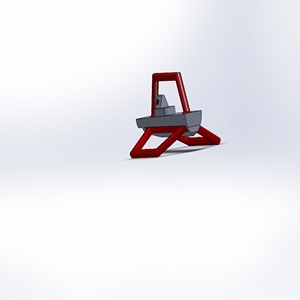submarine: (115, 62, 256, 181)
